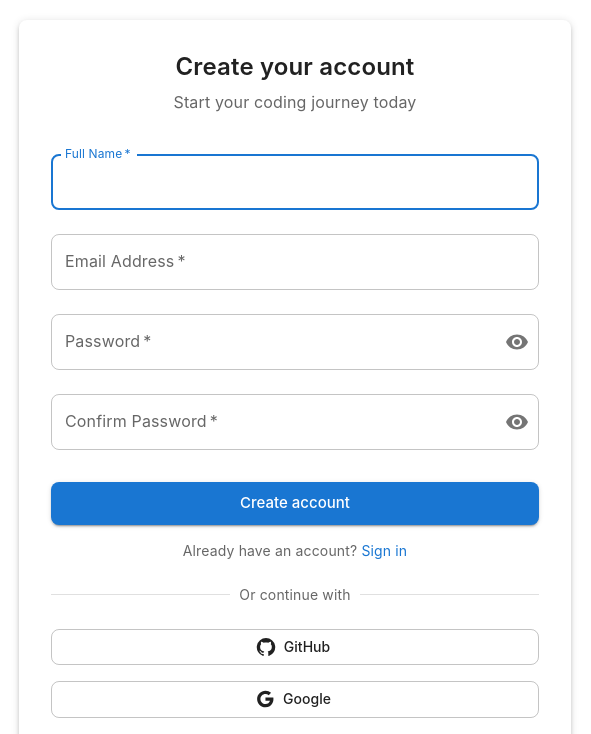
Scenario: RegisterPage › should show validation error when passwords do not match
Type "ValidPassword123!" into the password field labelled "Password *".
click(270, 342); type("ValidPassword123!")  # box top-left (51, 314), bottom-right (489, 370)
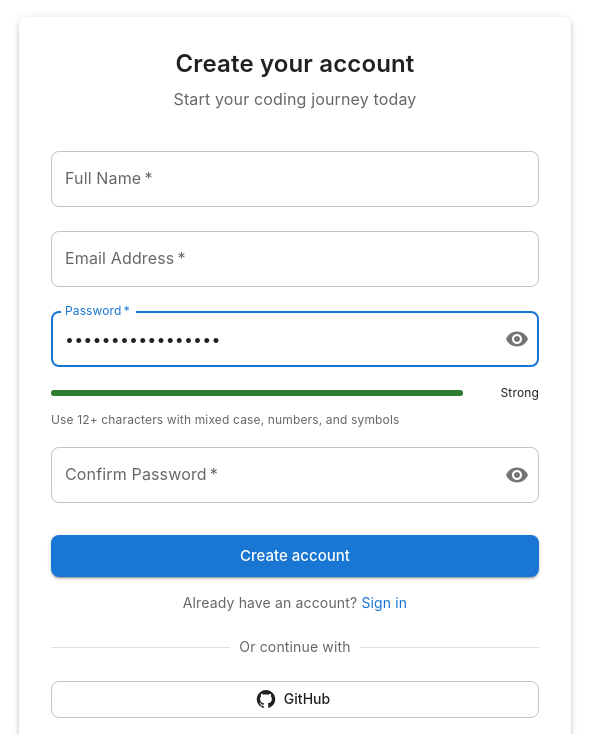
Type "DifferentPassword123!" into the password field labelled "Confirm Password *".
click(270, 475); type("DifferentPassword123!")  # box top-left (51, 447), bottom-right (489, 503)
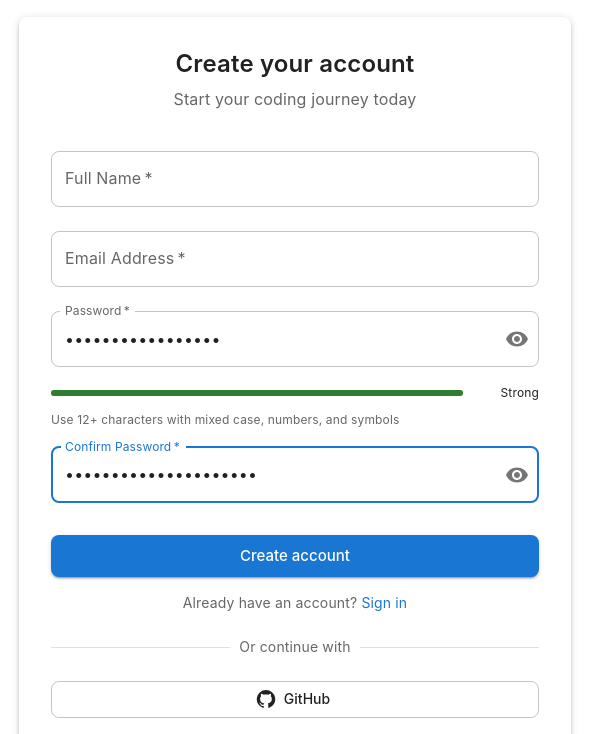
Click the button "Create account".
click(295, 556)  # box top-left (51, 535), bottom-right (539, 577)
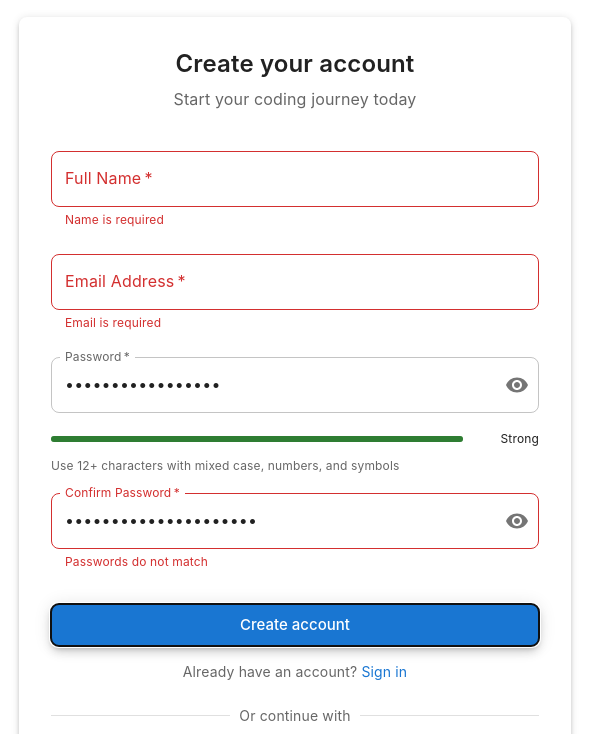
Expected: the text "Passwords do not match" is shown, top-left (65, 554), bottom-right (208, 569)
